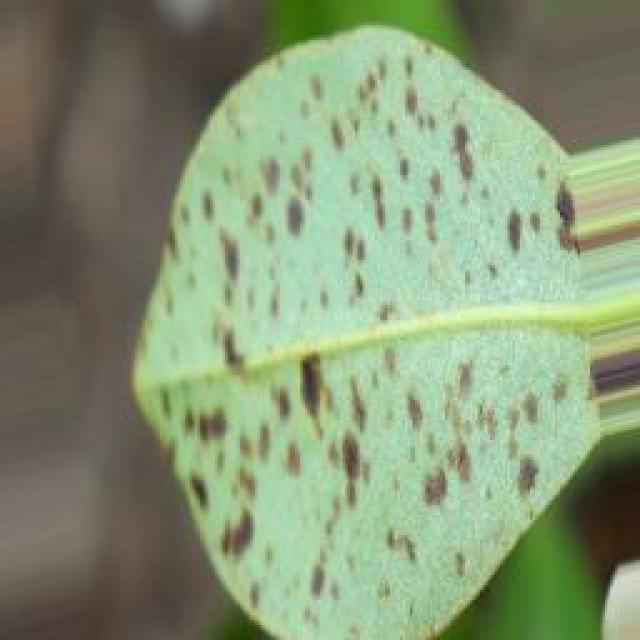Whitefly: (116, 4, 600, 624)
